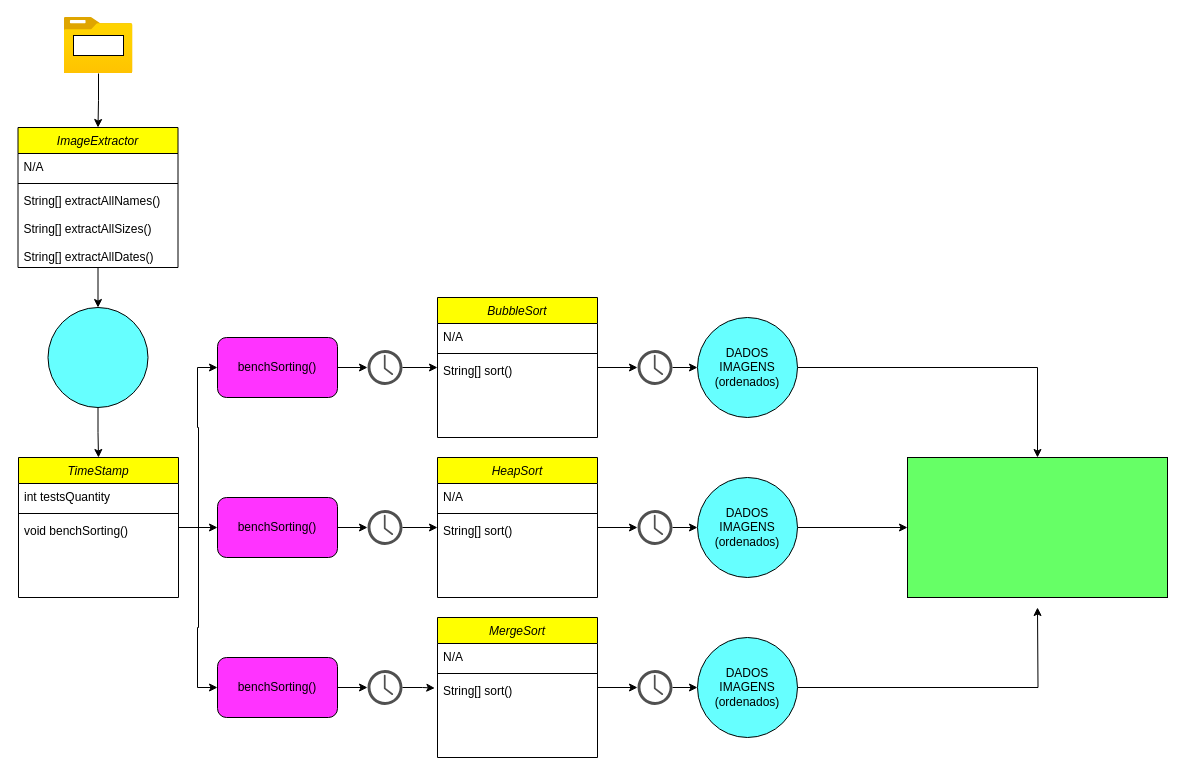
The diagram is 1185 pixels wide and 777 high, and some of its shapes have lost their labels. Each missing label, with the centre of its shape:
/images: the point at 98,45
DADOS IMAGENS (desordenado): the point at 97,357
Execution time: 10ms Sorted array: [1, 4, 5, 8, 9]: the point at 1037,527
